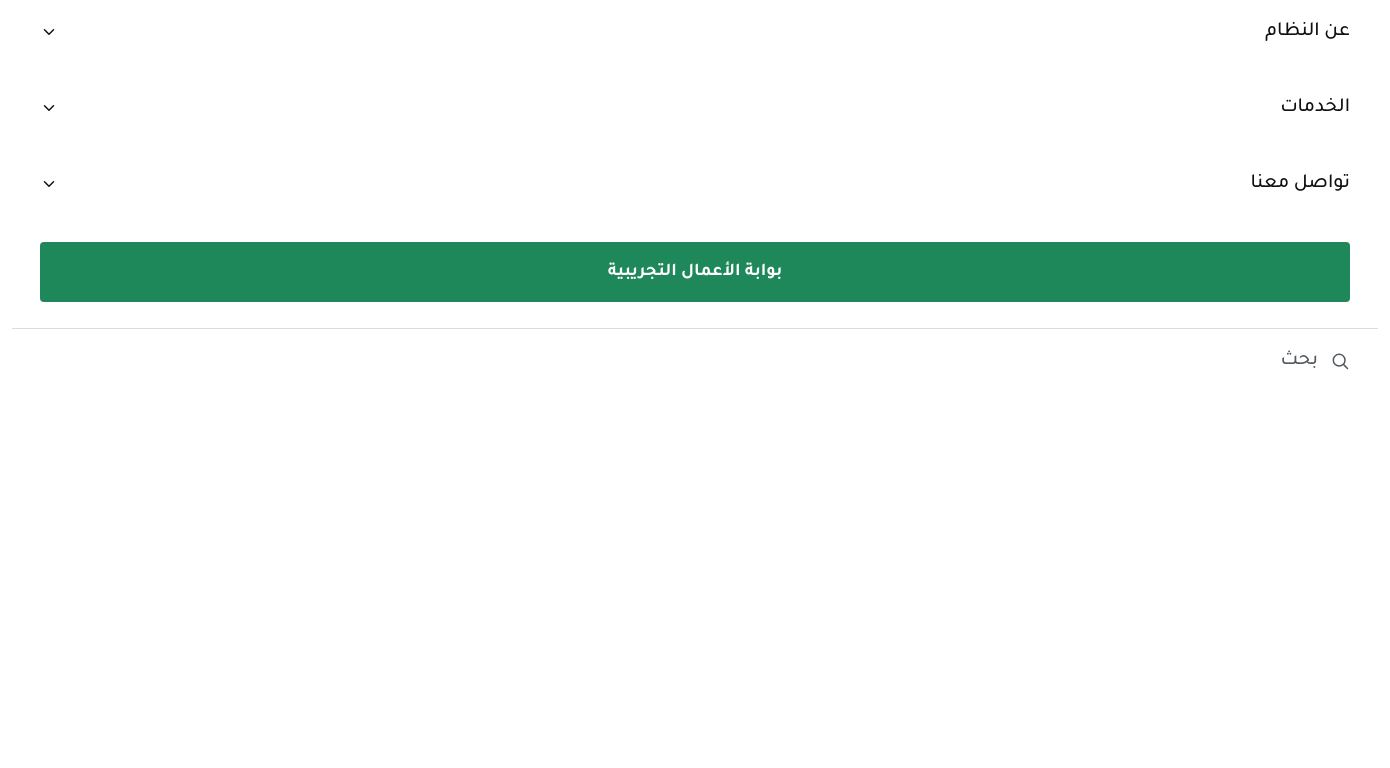
Scenario: MobileNavigation dropdown sections › collapses the dropdown again when its toggle is clicked a second time
Click the button "الخدمات" at (1315, 108), box [12, 76, 1378, 140]
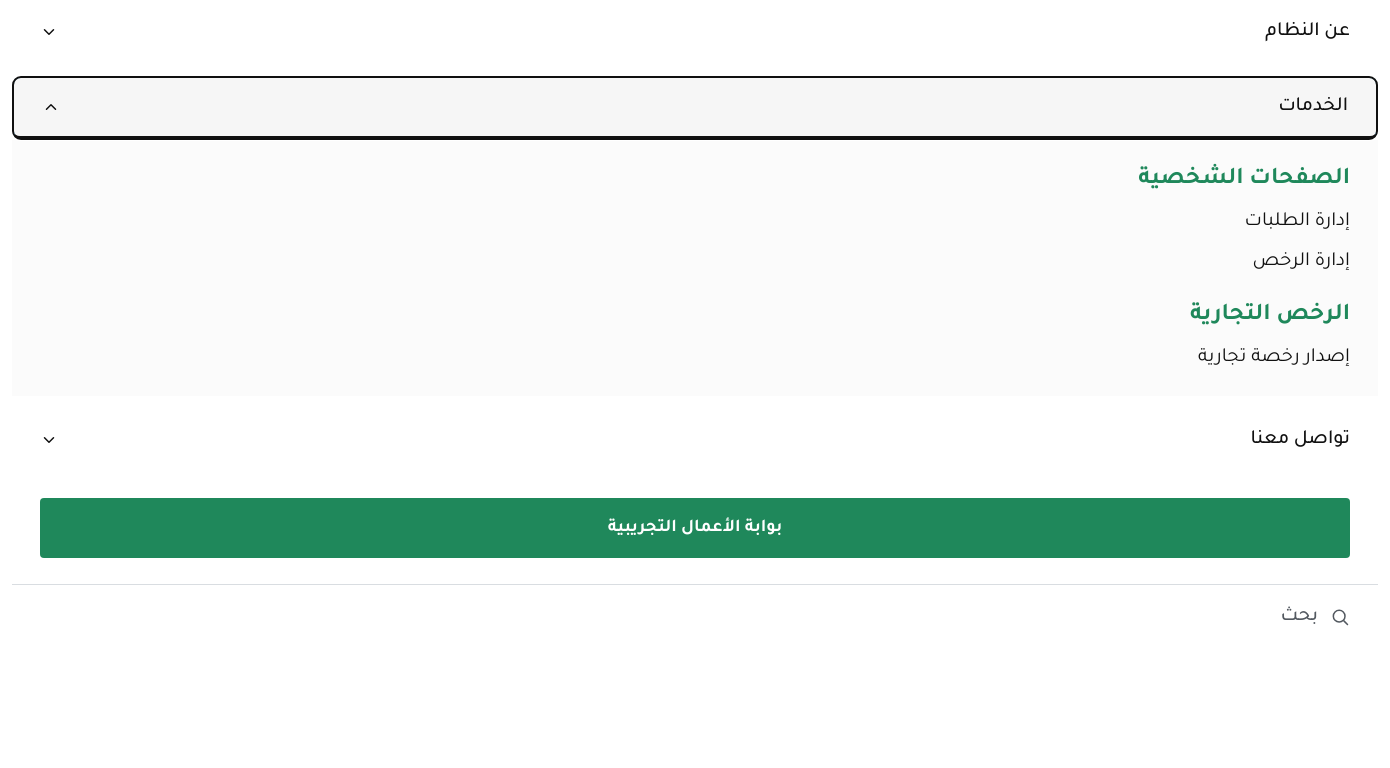
Check: the heading "الصفحات الشخصية" is shown, box [1138, 168, 1350, 192]
Click the button "الخدمات" at (1313, 107), box [12, 76, 1378, 140]
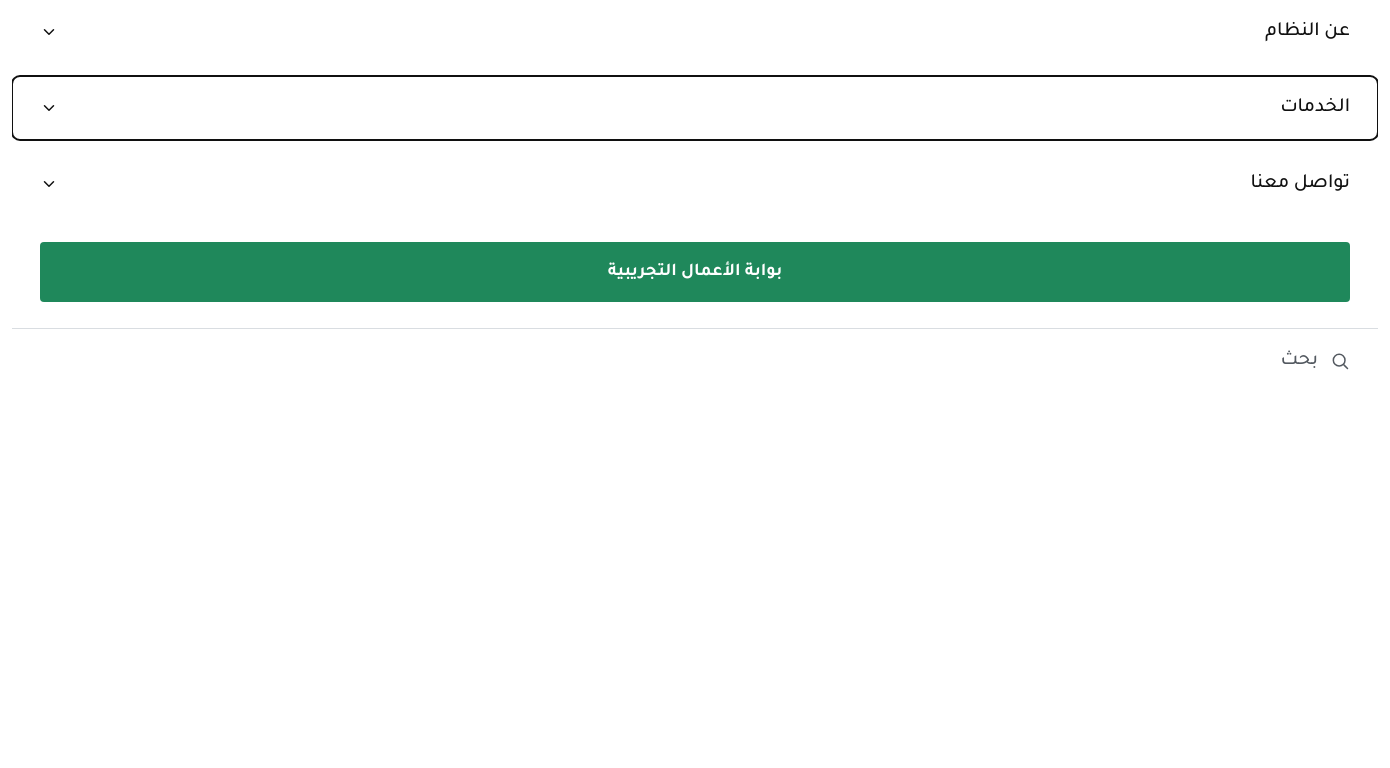
Check: the heading "الصفحات الشخصية" is gone
